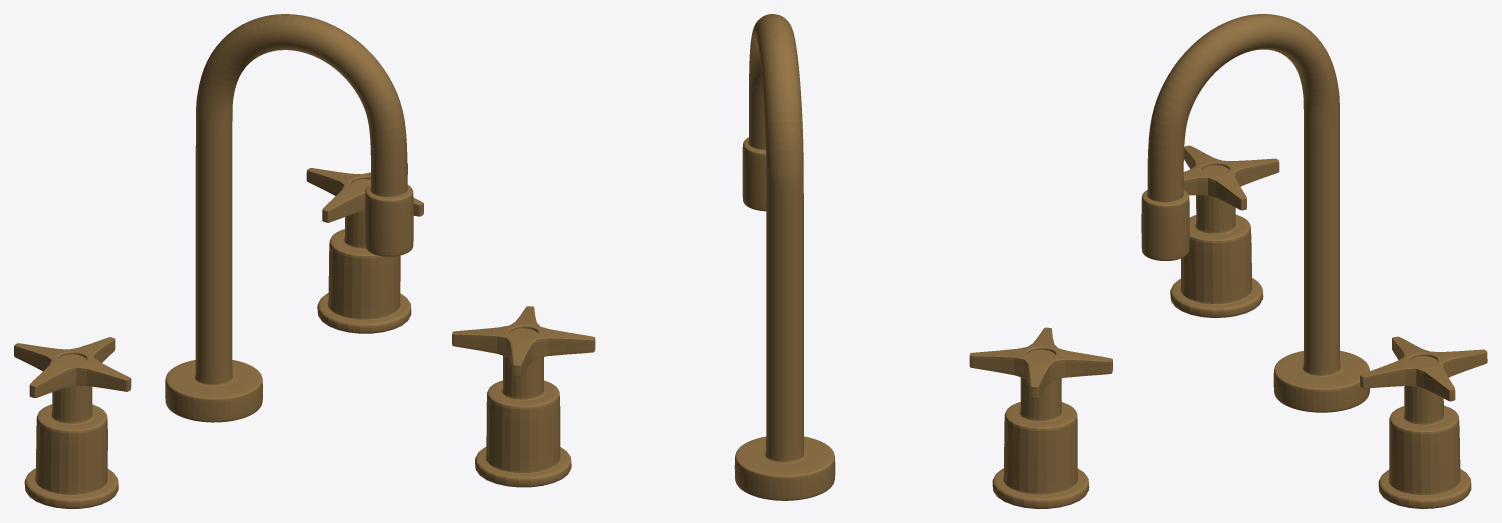
File: kitchen_faucet_01.glb
3 views of the same model, side by side, from view 1: azimuth 30°, elevation 25°; view 2: azimuth 150°, elevation 25°; view 3: azimuth 270°, elevation 25° (orthographic). The views are drawn at different scales.
Visible parts, largest first — view 1: Circle, Circle.001; view 2: Circle.001, Circle; view 3: Circle, Circle.001.
Part boxes in pixels (<box>): Circle: <box>165,14,413,422</box>; Circle.001: <box>14,163,423,508</box>; Circle.001: <box>452,306,1112,508</box>; Circle: <box>734,14,835,500</box>; Circle: <box>1141,14,1369,412</box>; Circle.001: <box>1170,145,1487,508</box>.
Size of the model in its own units: 5.86 by 4.43 by 3.49.
2 materials, 2 textured.
